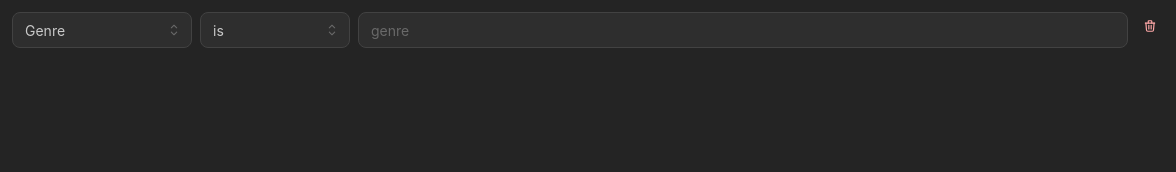
Test: LeafEditor tag and genre suggestions › offers the library's existing genres
Click the field with placeholder "genre".
click(743, 30)  # box top-left (358, 12), bottom-right (1128, 48)
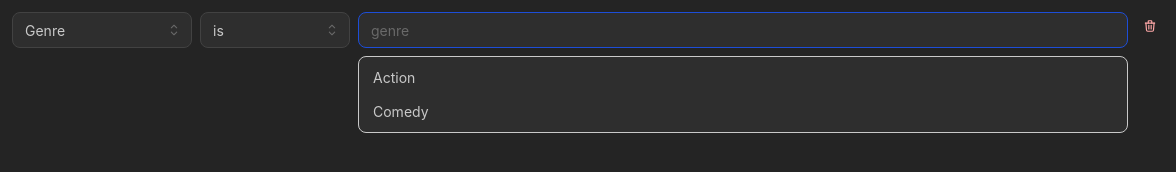
Now the text "Action" is shown, box top-left (373, 67), bottom-right (415, 89)
Now the text "Comedy" is shown, box top-left (373, 101), bottom-right (429, 122)
